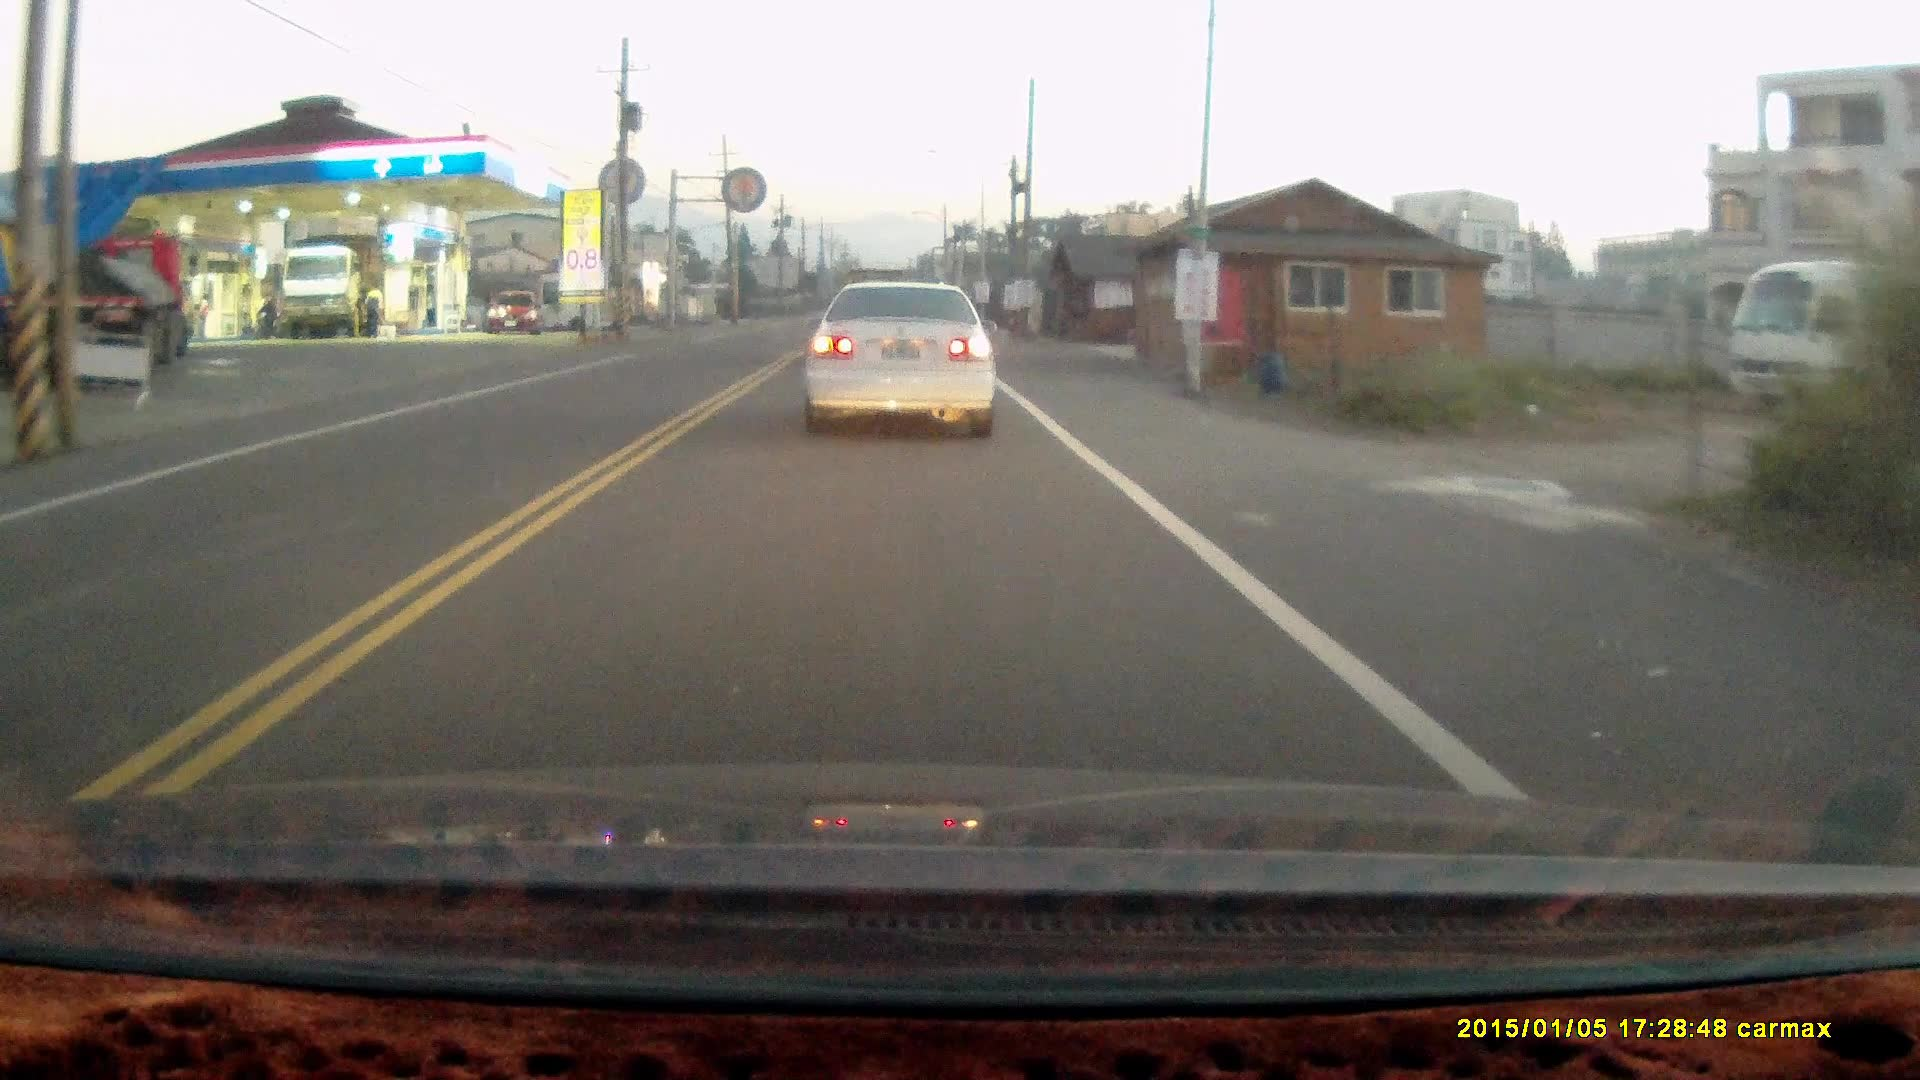pedestrian: (358, 281, 387, 334)
vehicle: (798, 276, 1003, 441), (43, 228, 194, 381), (282, 245, 384, 343), (490, 295, 541, 338)
